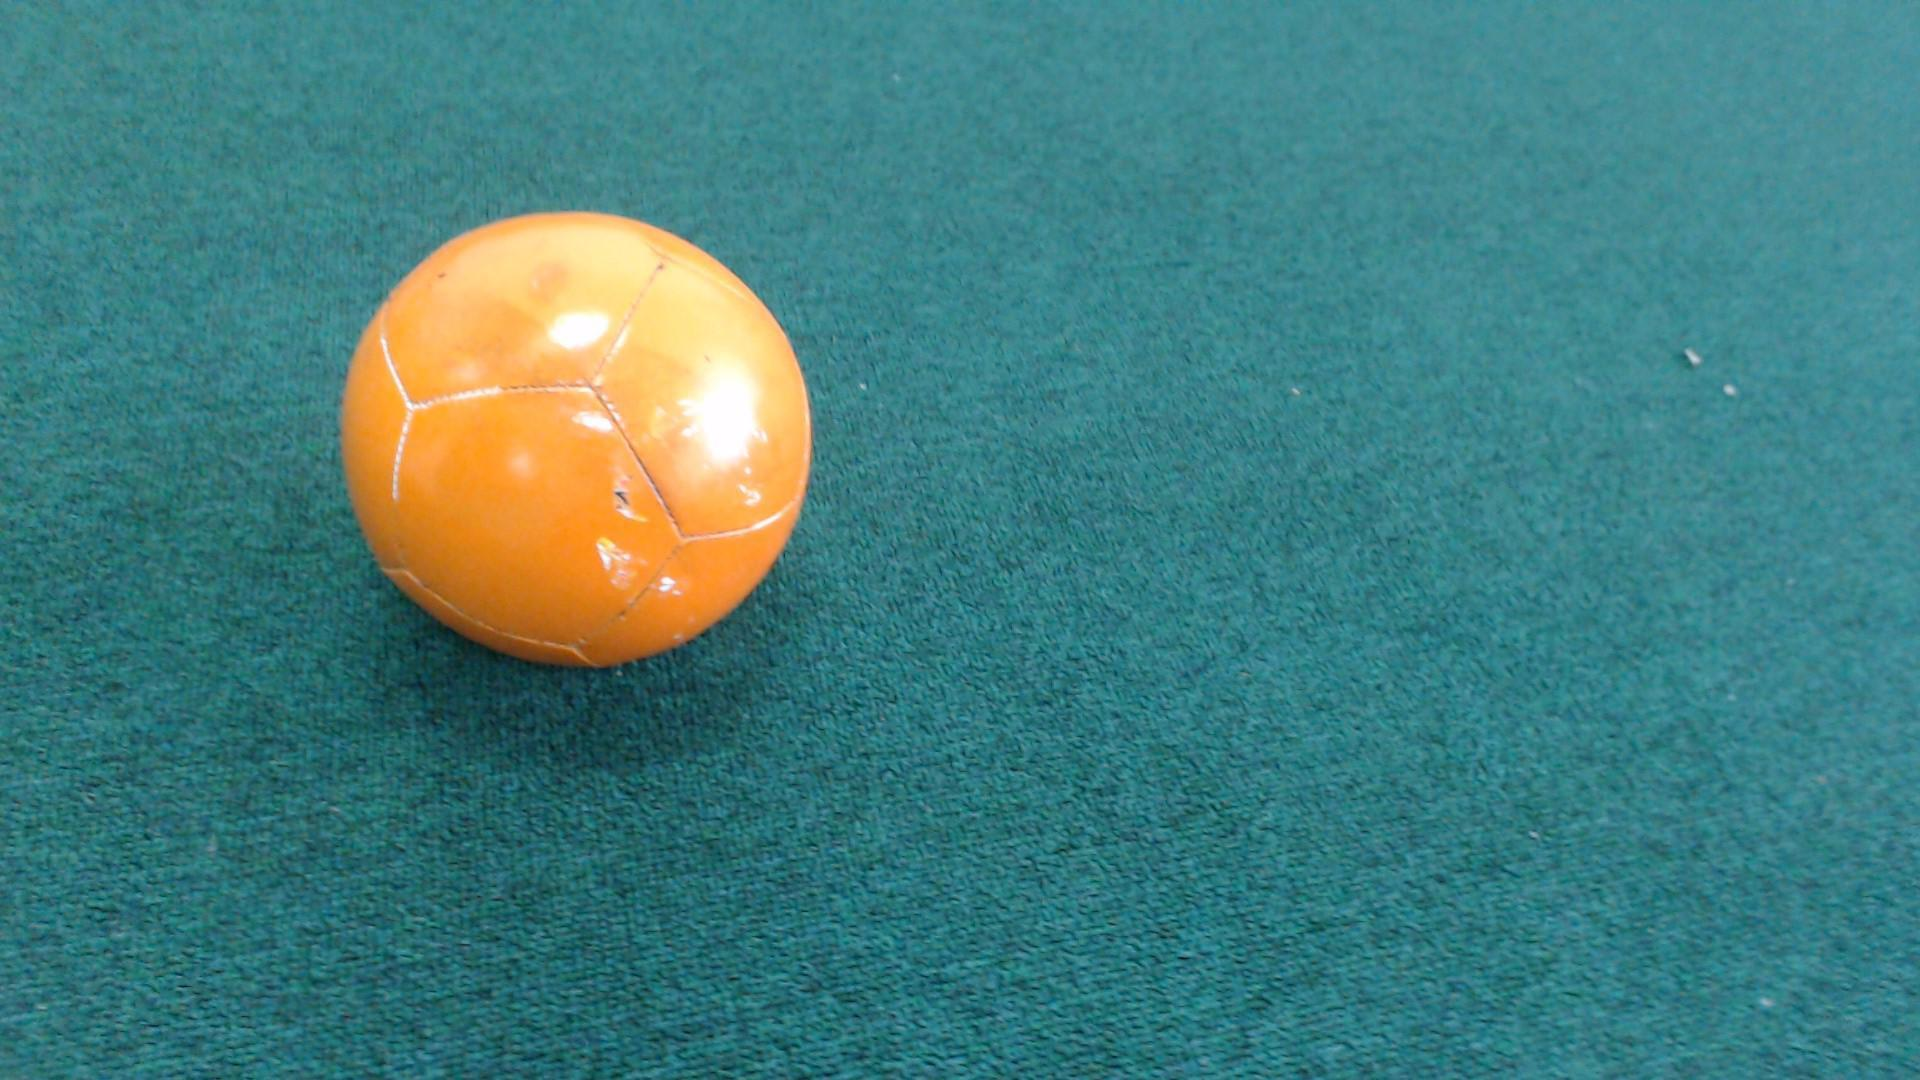bola: (295, 178, 828, 688)
